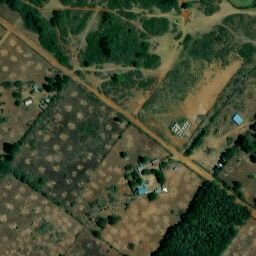tree: (2, 142, 19, 154), (95, 217, 107, 228), (106, 215, 117, 225), (1, 80, 12, 90), (132, 58, 143, 68), (2, 152, 14, 161), (231, 180, 243, 189), (111, 73, 121, 83), (146, 191, 157, 200), (90, 229, 101, 238), (12, 80, 23, 89), (37, 176, 47, 185), (123, 163, 133, 171), (136, 155, 147, 162), (141, 168, 150, 176), (11, 91, 21, 98), (118, 150, 126, 157), (13, 100, 21, 106), (126, 242, 134, 248)
